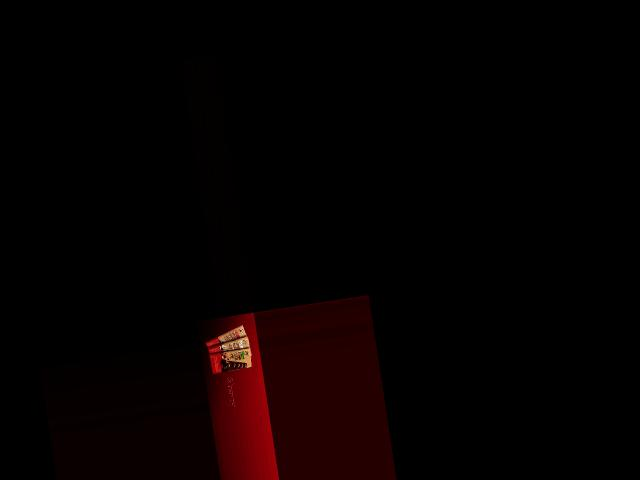chocolate: (201, 324, 250, 352)
